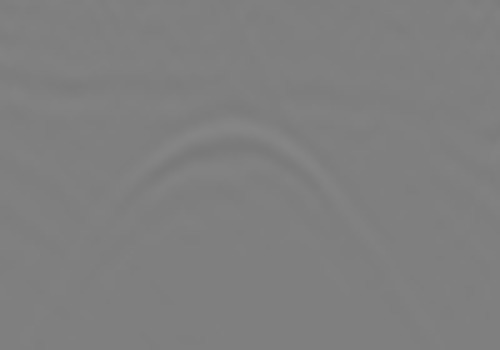hyperbola: (67, 114, 417, 306)
